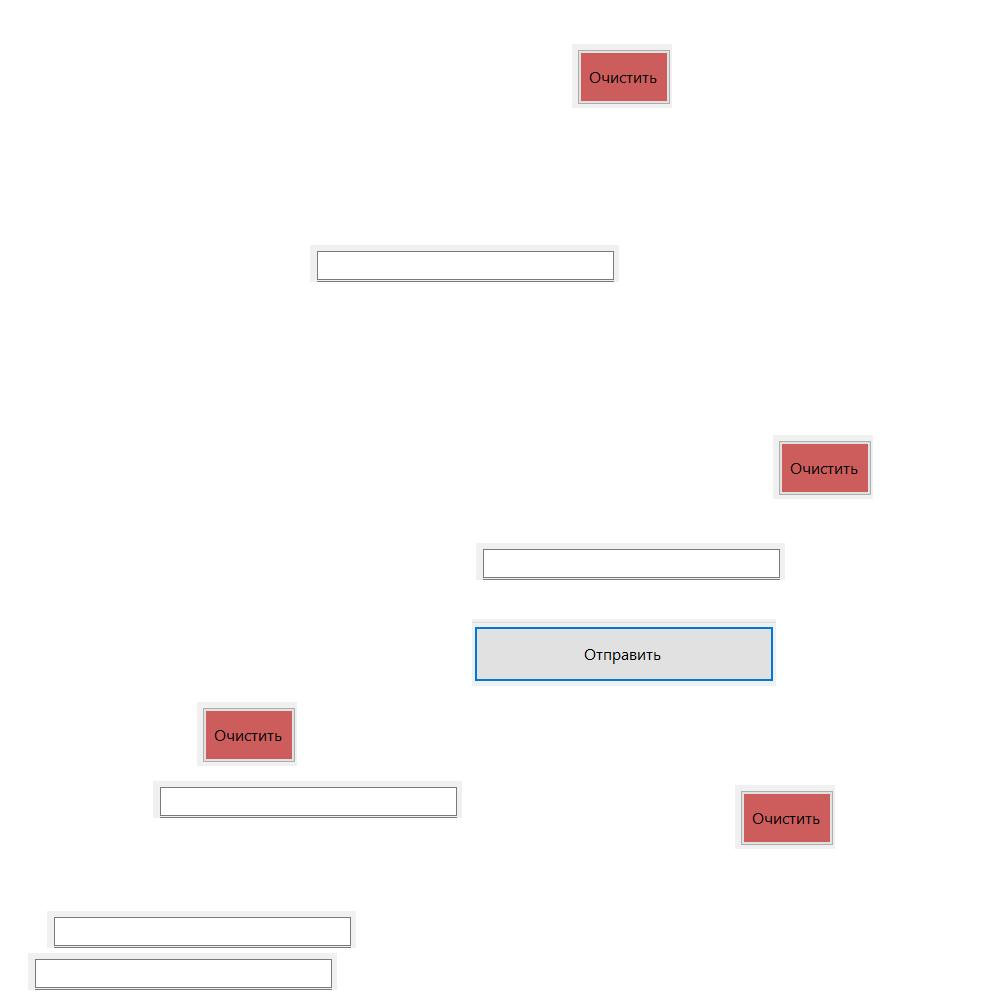Button: (472, 619, 776, 686), (572, 44, 672, 108), (197, 702, 297, 766), (735, 785, 835, 849), (773, 435, 873, 499)
EditText-: (47, 911, 356, 948), (476, 543, 785, 580), (28, 953, 337, 990), (310, 245, 619, 282), (153, 781, 462, 818)
